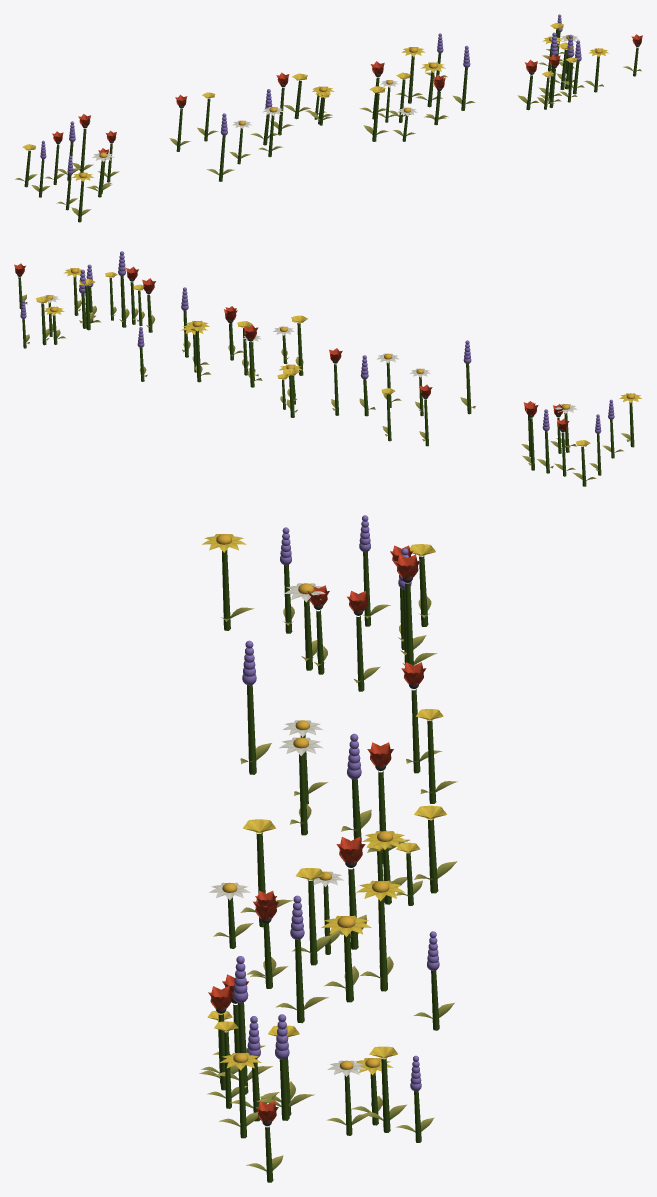
Rendered from golden-flowers.glb.
3 renders of one model, top to bottom at view 1: azimuth 30°, elevation 25°; view 2: azimuth 150°, elevation 25°; view 3: azimuth 270°, elevation 25°, orthographic. The views are drawn at different scales.
Visible parts, largest first — view 1: golden-flowers; view 2: golden-flowers; view 3: golden-flowers.
Part boxes in pixels (left/top/right/bottom): golden-flowers: left=15, top=14, right=642, bottom=222; golden-flowers: left=14, top=251, right=641, bottom=486; golden-flowers: left=199, top=515, right=457, bottom=1182.
Size of the model in its own units: 8.16 by 0.9267 by 1.56.
